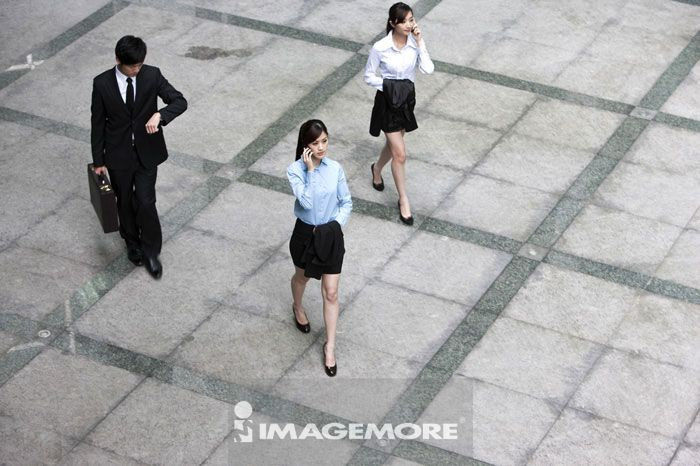talk: (303, 136, 328, 168), (400, 16, 422, 41)
